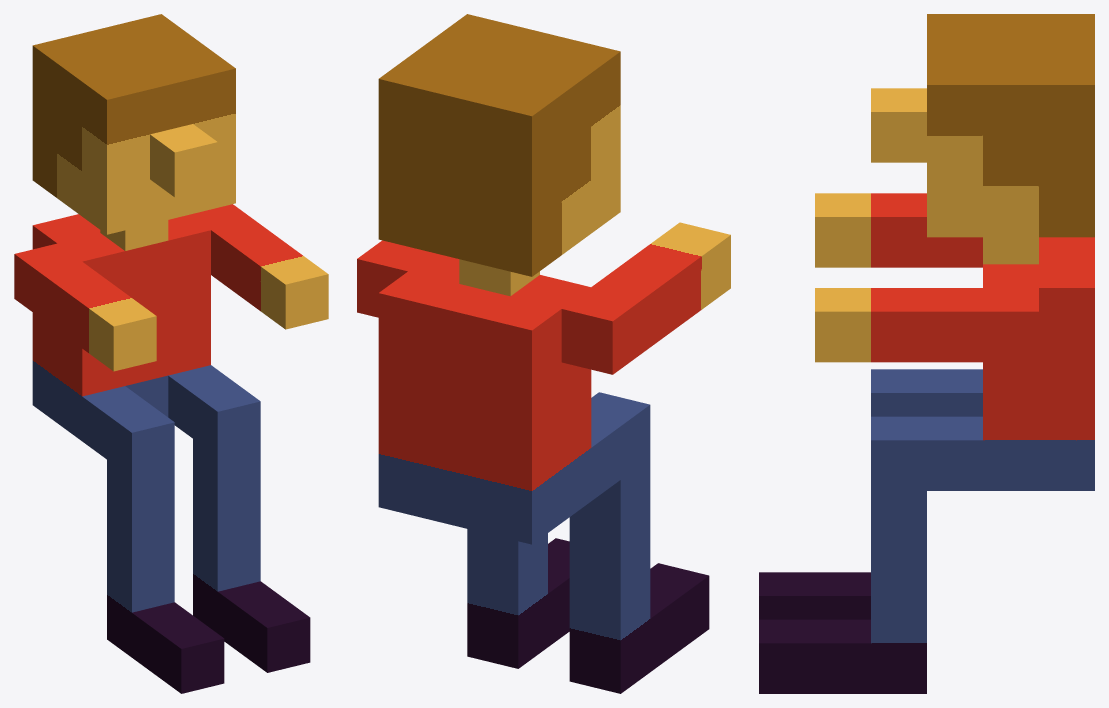
File: client.dae
3 renders of one model, left to right at view 1: azimuth 30°, elevation 25°; view 2: azimuth 150°, elevation 25°; view 3: azimuth 270°, elevation 25°, orthographic. The views are drawn at different scales.
Visible parts, largest first — view 1: client.merged; view 2: client.merged; view 3: client.merged.
Part boxes in pixels (x1,y1,x2,y2): client.merged: [14, 14, 328, 693]; client.merged: [357, 14, 730, 693]; client.merged: [759, 14, 1094, 693].
Bounding box in the file's own units: 0.5 × 0.6 × 1.2.
1 material, 1 textured.
